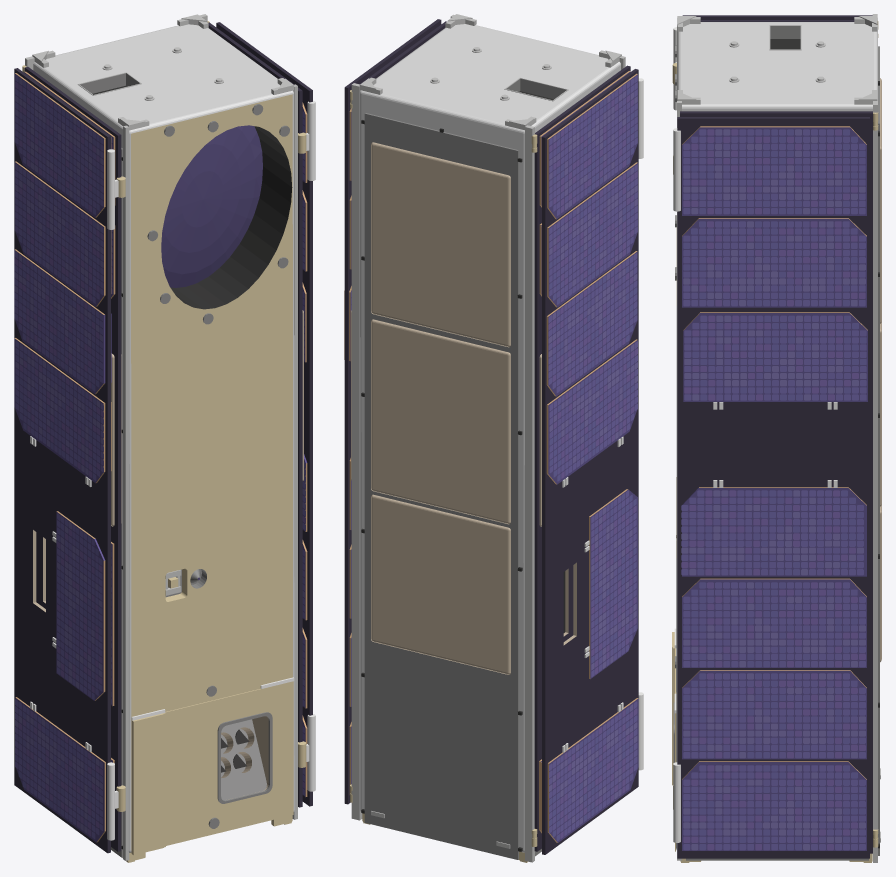
The model's file is cube-sat-mi-ra-ta.glb.
3 views of the same model, side by side, from view 1: azimuth 30°, elevation 25°; view 2: azimuth 150°, elevation 25°; view 3: azimuth 270°, elevation 25° (orthographic). The views are drawn at different scales.
Visible parts, largest first — view 1: Layer_0, Layer_2, Layer_4, Layer_3, Layer_1; view 2: Layer_0, Layer_2, Layer_4, Layer_3, Layer_1; view 3: Layer_3, Layer_0, Layer_1, Layer_2.
Part boxes in pixels (box(x1,y1,x2,y2)): Layer_0: box(22, 14, 297, 862); Layer_2: box(14, 68, 118, 853); Layer_4: box(24, 67, 125, 851); Layer_3: box(216, 22, 315, 806); Layer_1: box(208, 22, 306, 807); Layer_0: box(350, 14, 625, 862); Layer_2: box(541, 69, 643, 854); Layer_4: box(532, 65, 630, 851); Layer_3: box(344, 19, 441, 804); Layer_1: box(350, 21, 446, 794); Layer_3: box(673, 117, 869, 858); Layer_0: box(672, 14, 881, 862); Layer_1: box(673, 111, 877, 853); Layer_2: box(673, 15, 872, 691).
Bounding box in the file's own units: 2.46 × 8.4 × 2.09.
